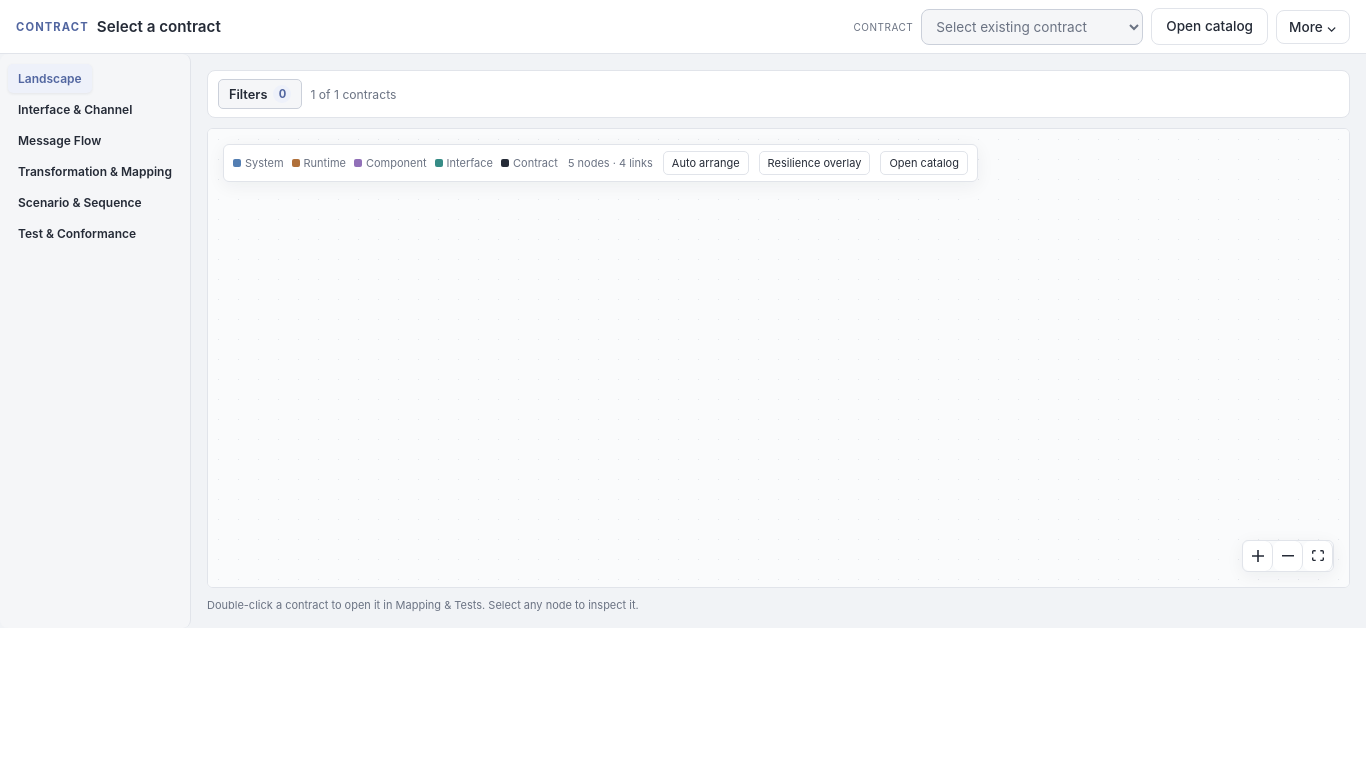
it: IntegrationWorkbench › renders conformance coverage, statuses and outstanding configuration
Select "Customer push · CRM→ERP" in the dropdown labelled "Contract" at [1032, 26], box [921,8,1143,44]
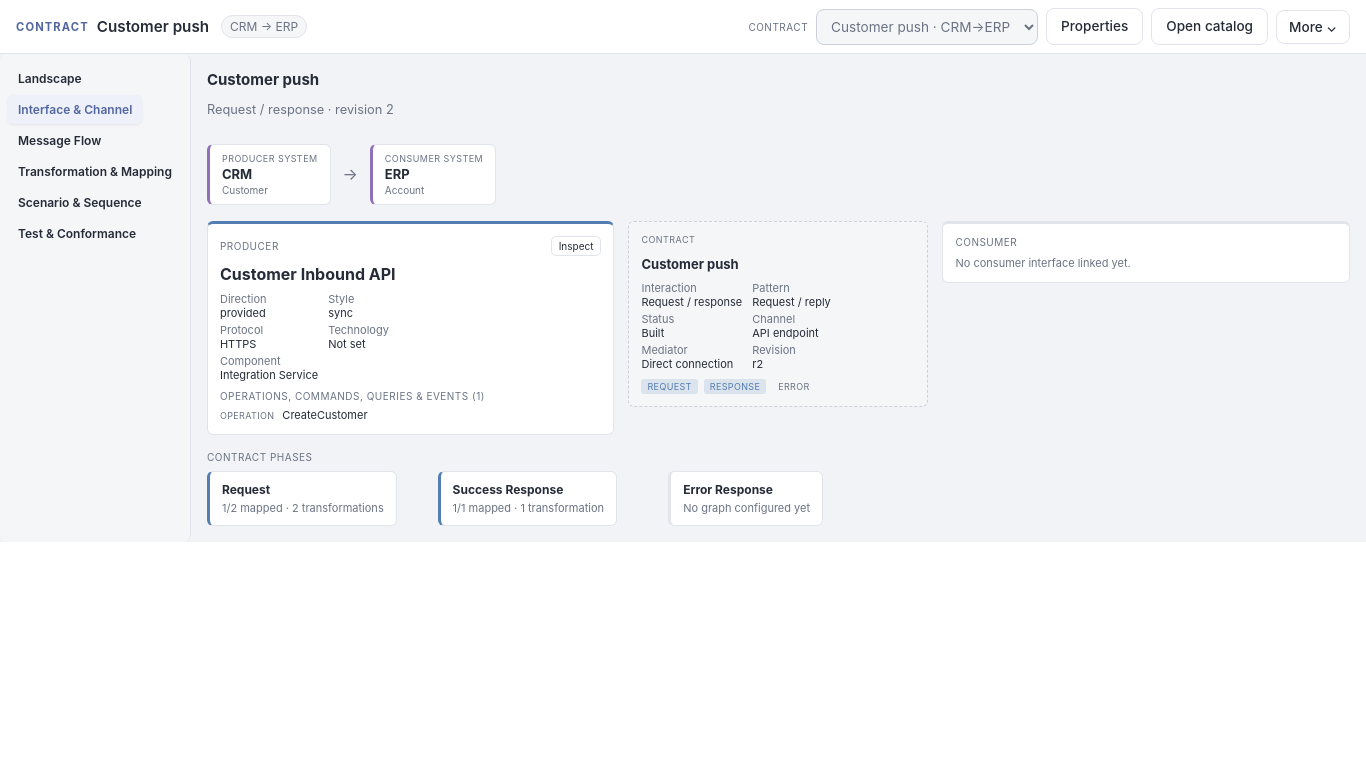
Now the text "CreateCustomer" is shown, box [282,408,368,422]
Click the button "Test & Conformance" at [77, 234], box [8,219,146,248]
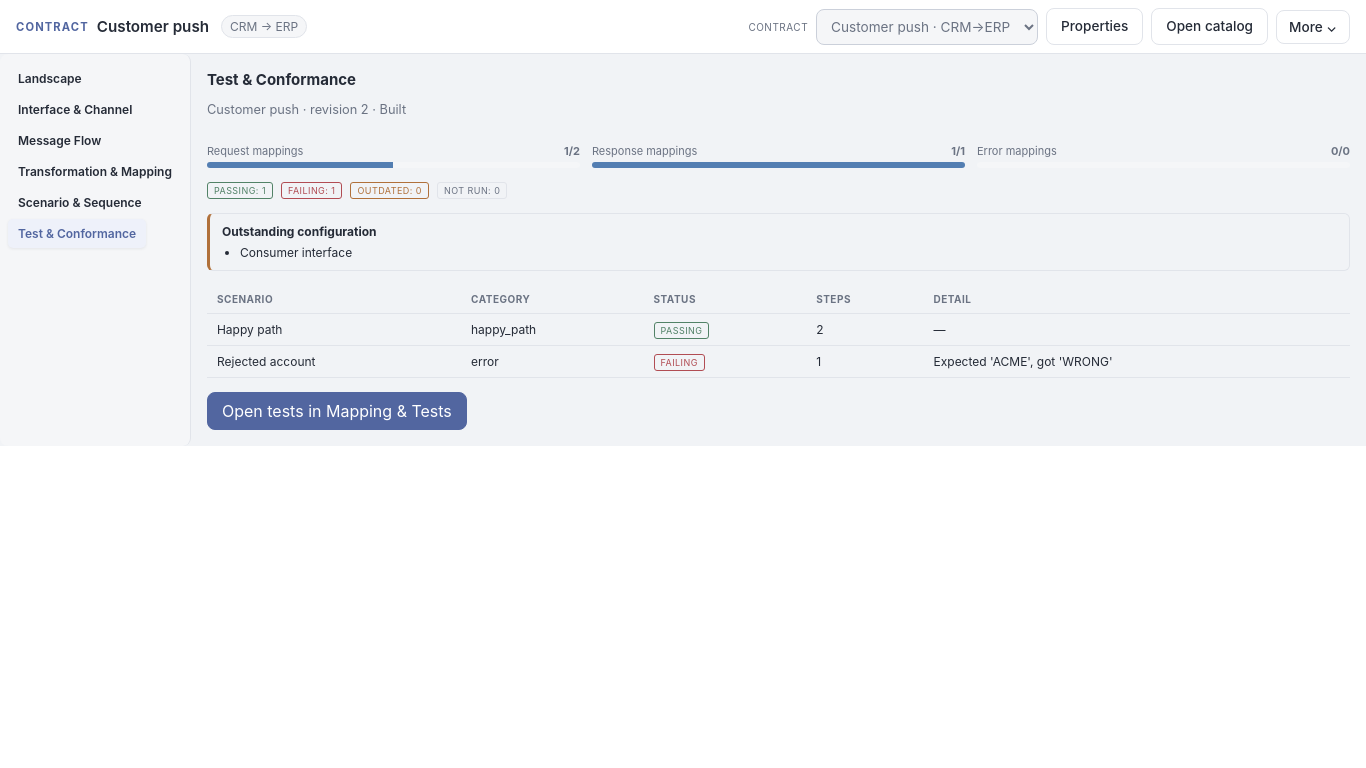
Now the text "Request mappings" is shown, box [207,144,303,158]
Now the text "Rejected account" is shown, box [207,345,461,377]
Now the text "Passing" is shown, box [654,322,710,339]
